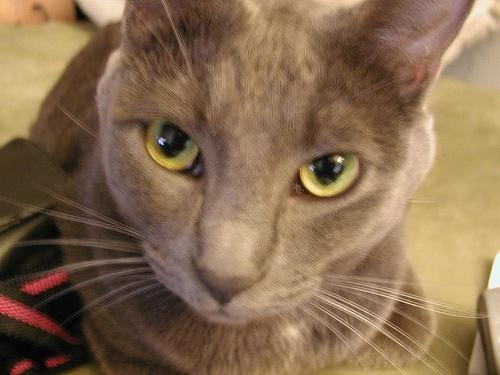cat: (33, 2, 479, 375)
